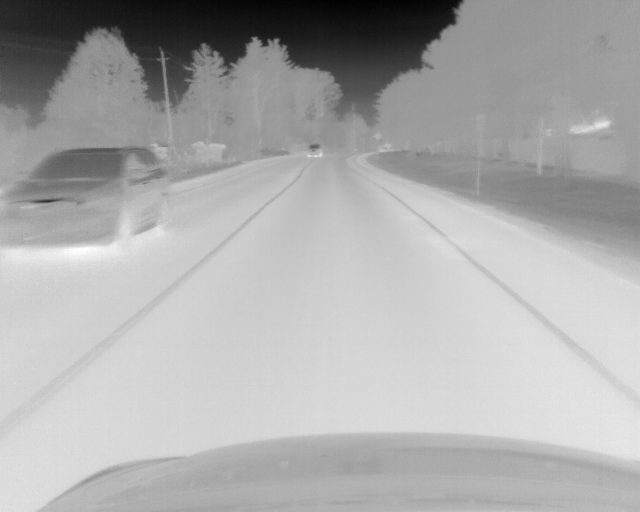car: (1, 147, 173, 253), (307, 143, 324, 157)
